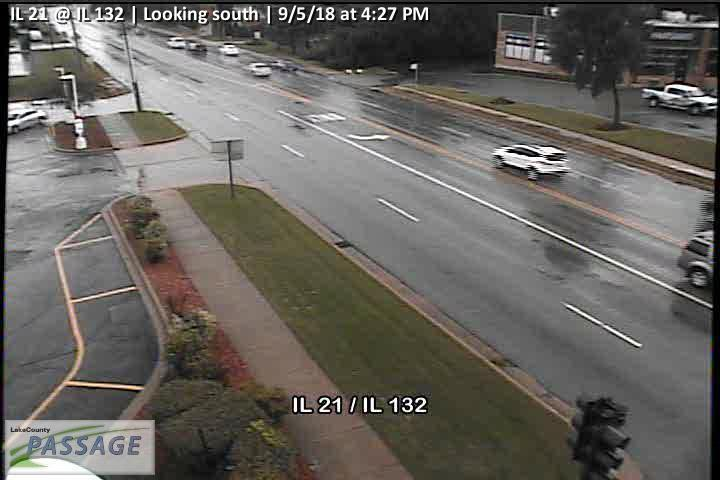SUV: (493, 142, 570, 181), (246, 62, 273, 77), (216, 41, 240, 56)
Sedan: (8, 107, 48, 136)
Truck: (639, 83, 716, 117)
